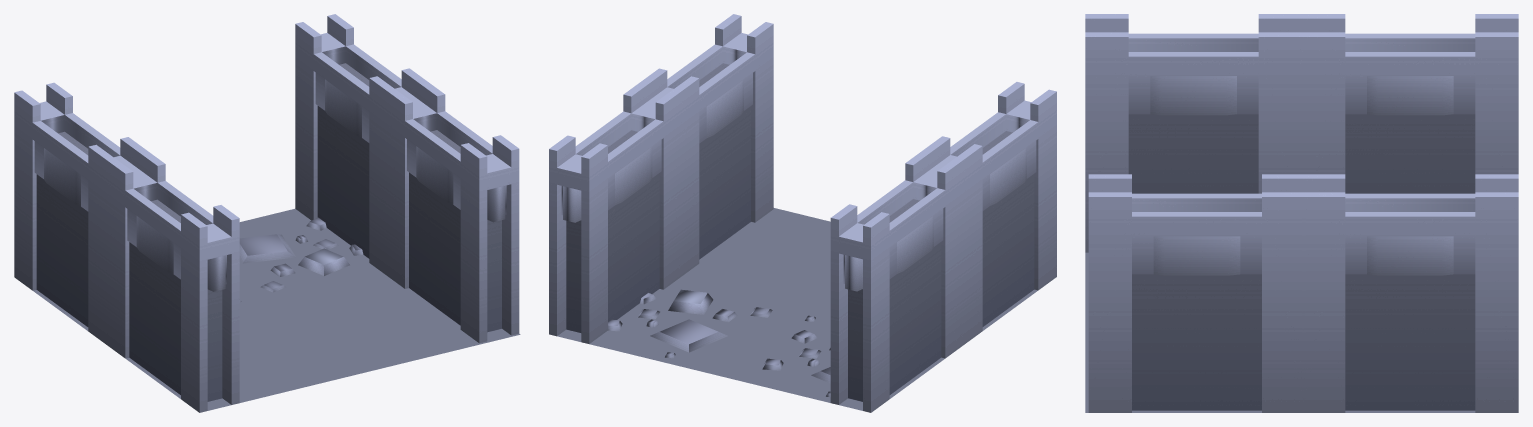
The model's file is Tile_10.glb.
3 views of the same model, side by side, from view 1: azimuth 30°, elevation 25°; view 2: azimuth 150°, elevation 25°; view 3: azimuth 270°, elevation 25° (orthographic). The views are drawn at different scales.
Parts seen in each view (by area): view 1: tile_10; view 2: tile_10; view 3: tile_10.
Boxes of the visible parts, bbox=[...] form: tile_10: bbox=[14, 14, 520, 412]; tile_10: bbox=[549, 14, 1056, 412]; tile_10: bbox=[1085, 14, 1518, 412].
Size of the model in its own units: 2 by 1.1 by 2.
8 materials, 8 textured.
